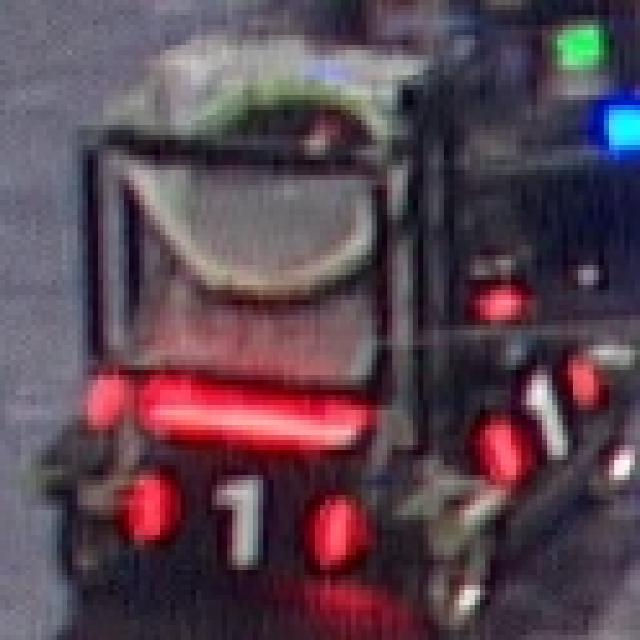R1: (129, 465, 361, 575), (470, 350, 609, 490)
